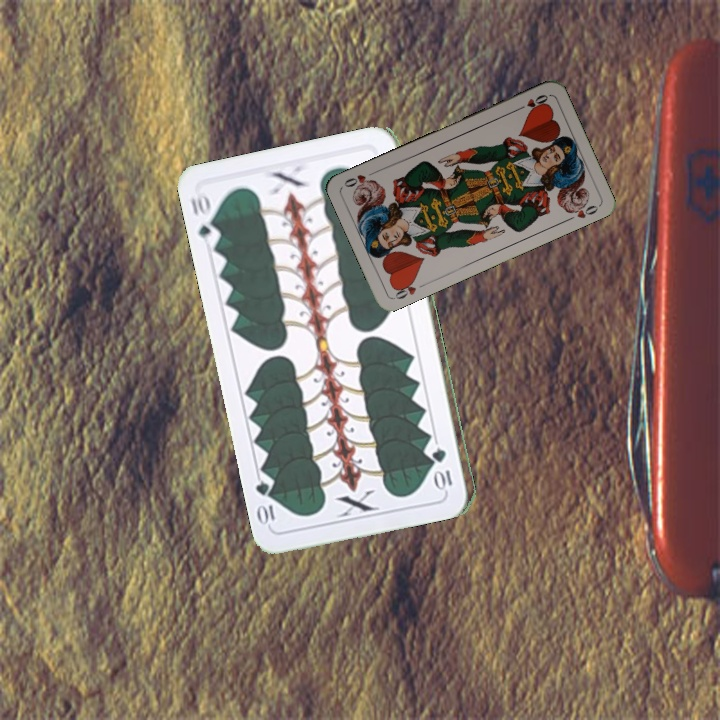G10: (187, 188, 223, 248), (431, 443, 455, 492)
HO: (513, 90, 551, 114), (390, 276, 419, 302)
